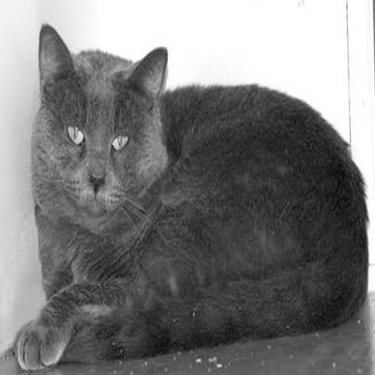cat: (1, 20, 365, 337)
